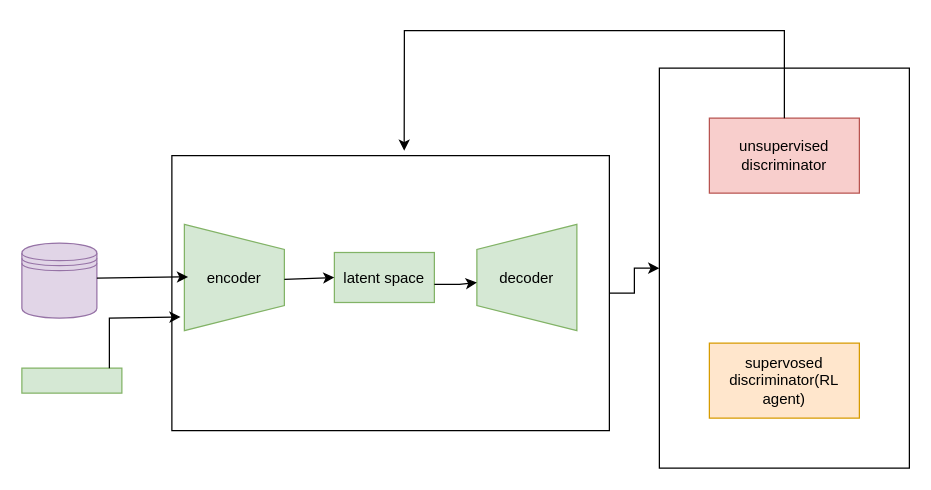
Image size: 931x490. Some labels were removed from this diagram. The box of each missing label's shape, as (x1, y1, x2, y2) in pixels:
attack database: (21, 242, 97, 318)
random vector: (21, 367, 122, 393)
